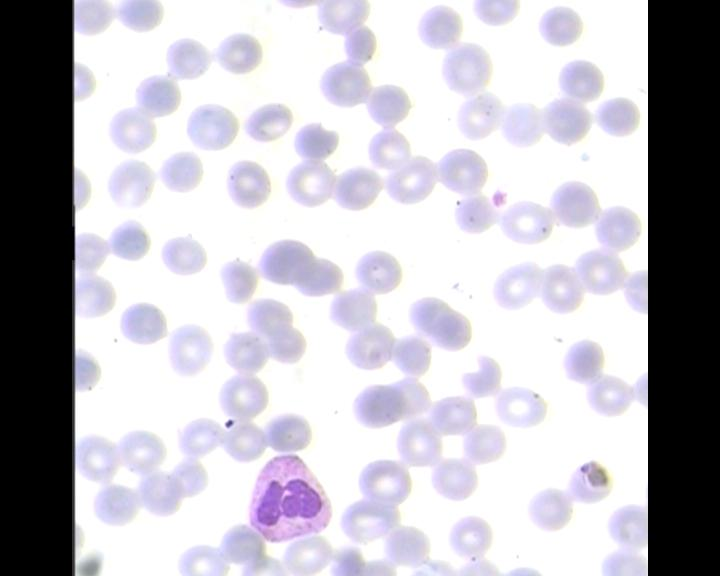neut: (244, 449, 336, 546)
